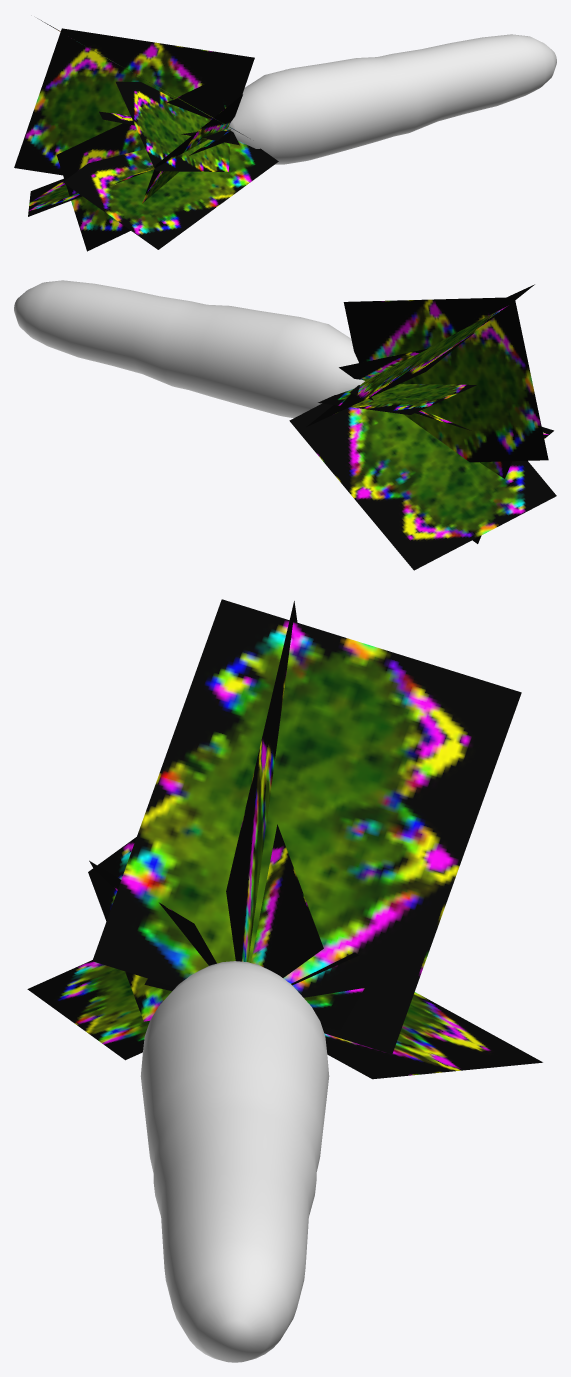
Rendered from Carrot.fbx.
The picture shows the model from 3 angles, top to bottom: view 1: azimuth 30°, elevation 25°; view 2: azimuth 150°, elevation 25°; view 3: azimuth 270°, elevation 25°; orthographic projection. The views are drawn at different scales.
Visible parts, largest first — view 1: Carrot 4_1; view 2: Carrot 4_1; view 3: Carrot 4_1.
Boxes of the visible parts, bbox=[...] form: Carrot 4_1: bbox=[14, 18, 556, 251]; Carrot 4_1: bbox=[14, 280, 556, 570]; Carrot 4_1: bbox=[27, 599, 542, 1362].
Size of the model in its own units: 68.34 by 29.44 by 29.48.
Materials: 2 (1 with a texture image).
